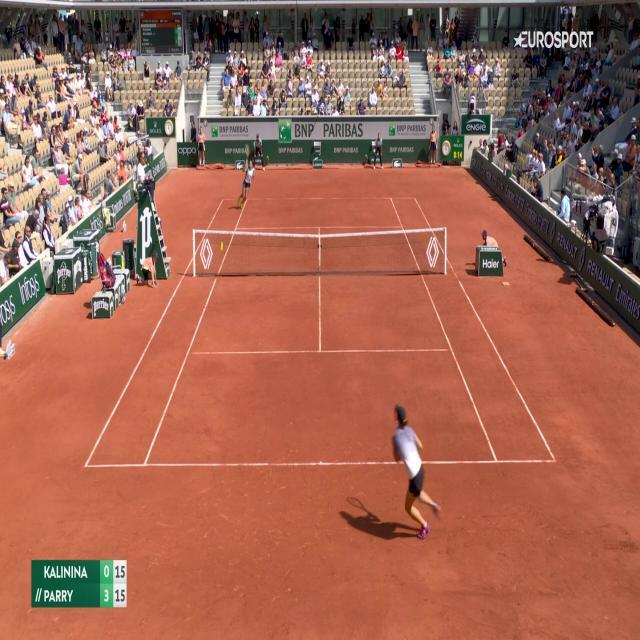left side: (391, 198, 555, 462), (86, 199, 247, 466)
player: (388, 401, 442, 542), (238, 144, 254, 208)
